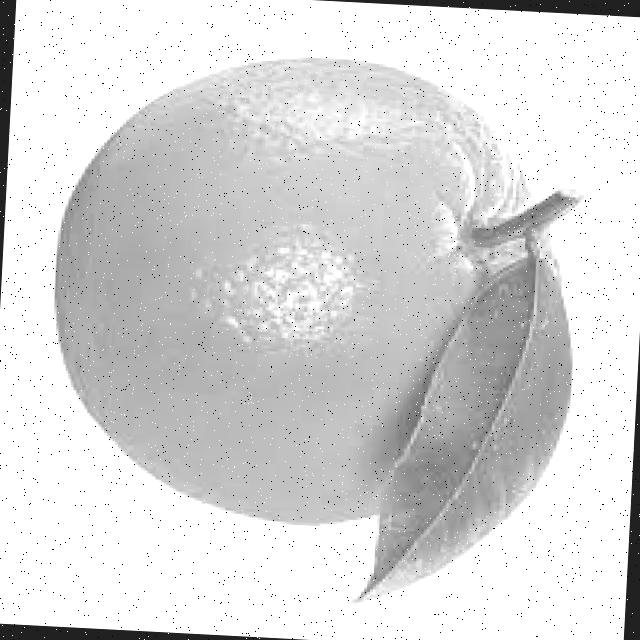Ripe: (39, 38, 588, 547)
